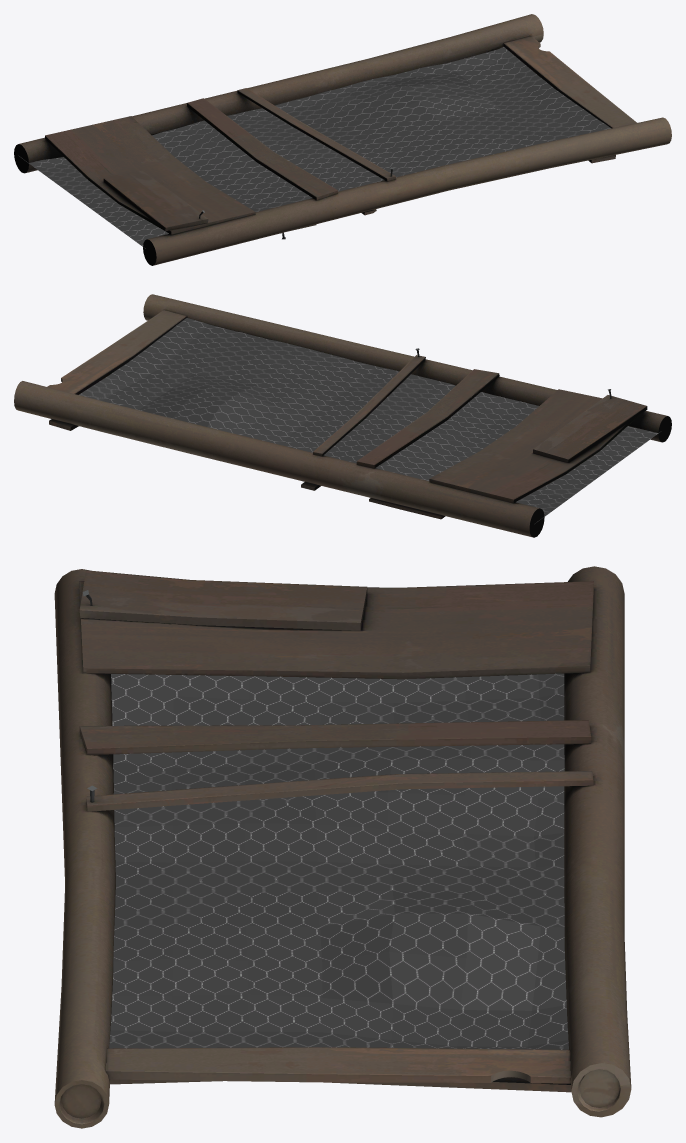
Rendered from props_coalmines_wood_fence_128.glb.
3 renders of one model, top to bottom at view 1: azimuth 30°, elevation 25°; view 2: azimuth 150°, elevation 25°; view 3: azimuth 270°, elevation 25°, orthographic. The views are drawn at different scales.
Visible parts, largest first — view 1: models/props_coalmines/wood_fence_128; view 2: models/props_coalmines/wood_fence_128; view 3: models/props_coalmines/wood_fence_128.
Boxes of the visible parts, left/top/right/bottom form: models/props_coalmines/wood_fence_128: left=14, top=14, right=671, bottom=265; models/props_coalmines/wood_fence_128: left=14, top=294, right=671, bottom=537; models/props_coalmines/wood_fence_128: left=54, top=566, right=631, bottom=1128.
Size of the model in its own units: 268 by 24.72 by 130.
2 materials, 2 textured.
